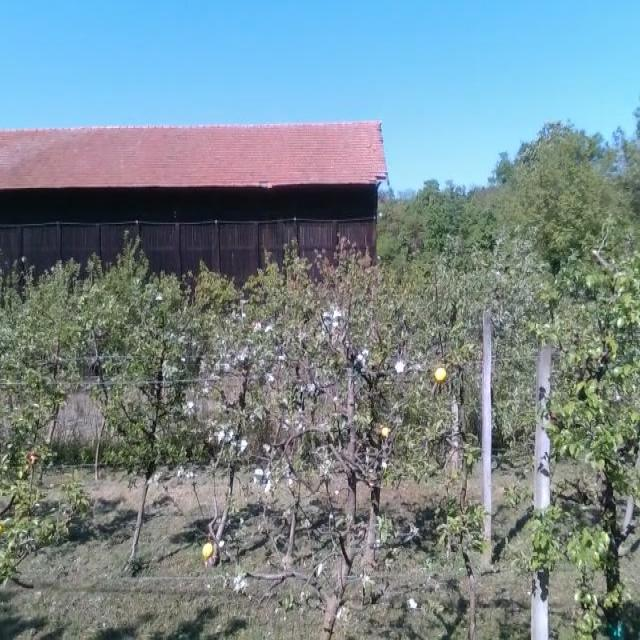yellow: (201, 541, 214, 562), (434, 367, 446, 384), (381, 426, 392, 439)
